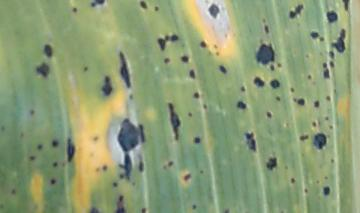tarspot: (118, 118, 146, 152), (117, 52, 132, 89), (168, 101, 182, 140), (332, 26, 347, 55), (118, 153, 133, 181), (255, 44, 275, 64), (100, 75, 113, 97), (245, 131, 257, 154), (289, 3, 303, 21), (35, 62, 50, 78), (313, 133, 327, 150), (66, 139, 75, 162), (325, 8, 338, 23), (265, 156, 278, 170), (209, 3, 221, 18), (42, 44, 54, 58), (253, 77, 265, 87), (157, 38, 166, 51), (218, 64, 228, 75), (236, 100, 247, 110), (198, 39, 208, 48), (270, 78, 280, 87), (323, 67, 330, 79), (312, 99, 321, 108), (297, 97, 306, 106), (323, 186, 331, 196), (139, 160, 145, 173), (194, 135, 201, 146), (189, 69, 196, 80), (29, 107, 37, 116), (51, 139, 60, 147), (71, 4, 79, 13), (181, 56, 190, 64), (310, 31, 319, 39), (298, 135, 310, 141), (90, 206, 100, 213), (343, 1, 350, 11), (184, 173, 192, 181), (170, 34, 179, 41), (239, 84, 246, 93), (328, 50, 335, 59), (325, 93, 332, 102), (264, 24, 270, 34), (18, 131, 25, 139), (49, 178, 57, 185), (117, 206, 125, 213), (139, 1, 147, 8), (167, 159, 174, 167), (303, 186, 310, 194), (96, 1, 107, 6), (222, 208, 233, 213), (36, 142, 42, 151), (269, 63, 275, 72), (323, 115, 330, 122), (1, 124, 7, 132), (118, 194, 124, 202), (187, 111, 193, 119), (311, 119, 317, 127), (304, 51, 310, 59), (9, 189, 18, 194), (165, 32, 170, 41), (267, 110, 272, 119), (52, 161, 59, 167), (93, 135, 99, 142), (113, 182, 119, 189), (141, 207, 148, 213), (128, 93, 134, 100), (154, 5, 160, 12), (192, 204, 198, 211), (199, 168, 205, 175), (202, 103, 208, 110), (194, 92, 200, 99), (306, 74, 313, 80), (328, 124, 334, 131), (315, 178, 321, 185), (214, 43, 219, 51), (275, 94, 280, 102), (29, 154, 35, 160), (276, 62, 282, 68), (319, 37, 325, 43), (322, 62, 328, 68), (289, 87, 295, 93), (83, 65, 88, 72), (330, 61, 335, 68), (290, 177, 295, 184), (284, 164, 289, 171), (91, 3, 97, 8), (103, 166, 109, 171), (95, 167, 101, 172), (164, 59, 170, 64), (214, 51, 220, 56), (262, 18, 267, 24), (292, 98, 298, 103), (330, 158, 335, 163), (324, 175, 329, 180)
